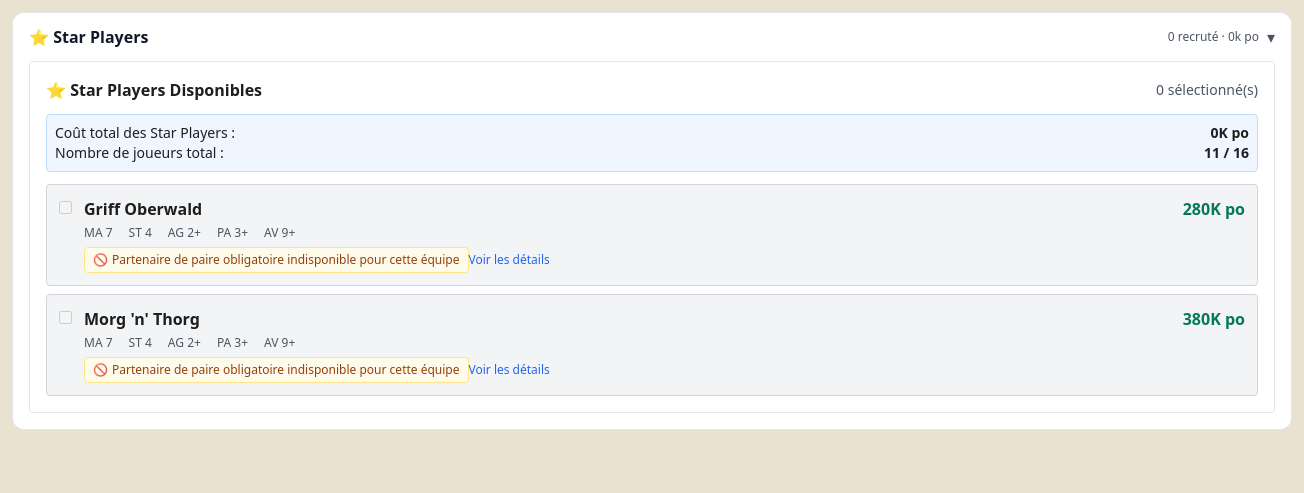
Test: TeamStarPlayersEditor › affiche le refus du serveur et resynchronise
This screenshot has width=1304, height=493.
Step 1. Click the checkbox with test id "star-player-griff_oberwald" → [66, 208], box [59,201,72,214]
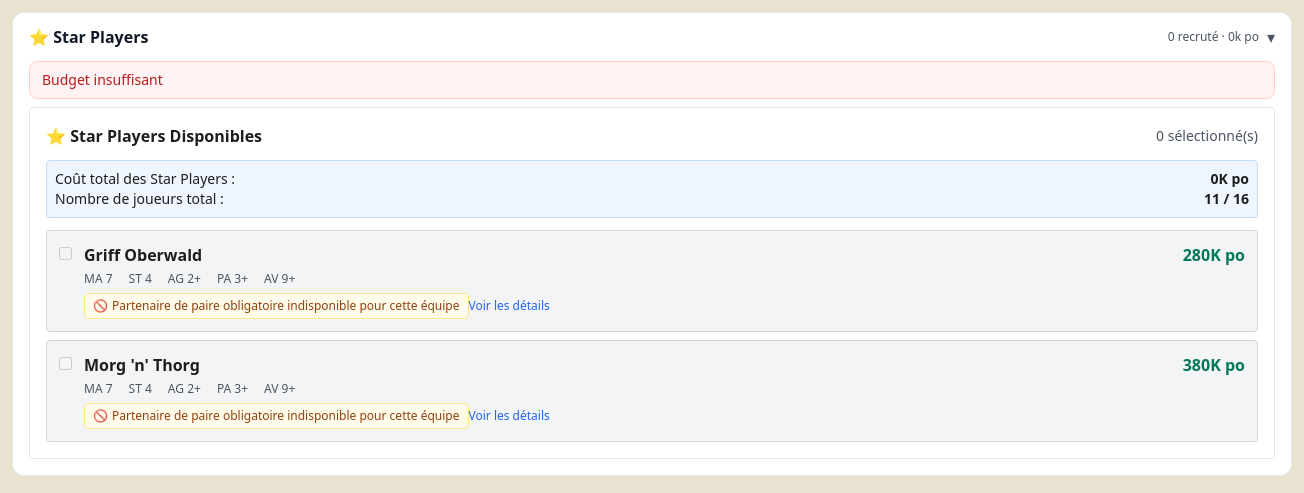
Expected: the text with test id "team-star-players-error" reads "Budget insuffisant", [42,70,163,89]
